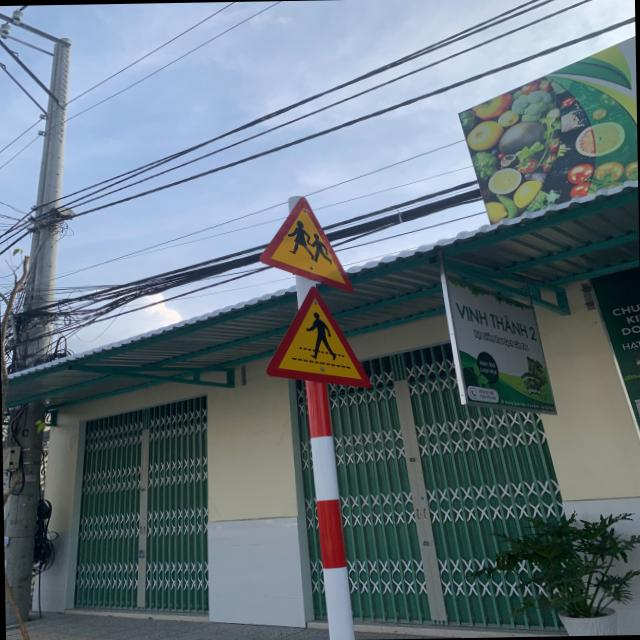Duong_Nguoi_Di_Bo_Sang_Ngang: (261, 283, 372, 392)
Vong_Xuyen: (258, 195, 354, 295)
